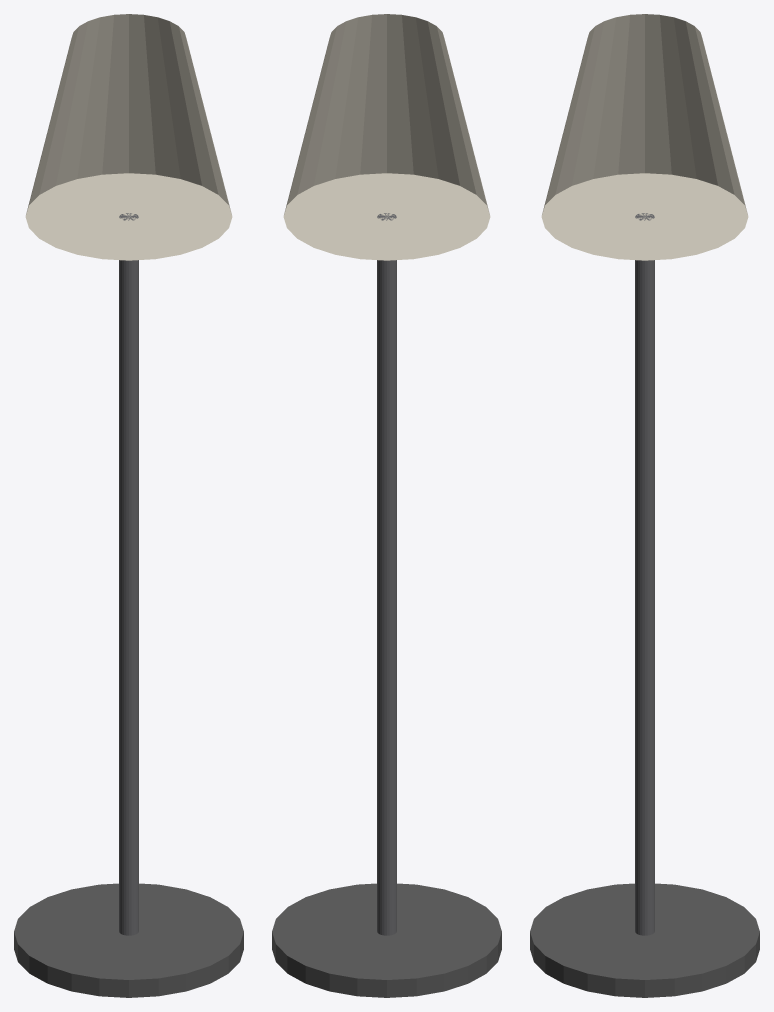
Rendered from cat_lamp_floor-standard.glb.
3 renders of one model, left to right at view 1: azimuth 30°, elevation 25°; view 2: azimuth 150°, elevation 25°; view 3: azimuth 270°, elevation 25°, orthographic.
Visible parts, largest first — view 1: geometry_2, geometry_0, geometry_1; view 2: geometry_2, geometry_0, geometry_1; view 3: geometry_2, geometry_0, geometry_1.
Boxes of the visible parts, x1,y1,x2,y2 form: geometry_2: [25, 14, 232, 260]; geometry_0: [14, 883, 243, 997]; geometry_1: [119, 213, 138, 935]; geometry_2: [283, 14, 490, 260]; geometry_0: [272, 883, 501, 997]; geometry_1: [377, 213, 396, 935]; geometry_2: [541, 14, 748, 260]; geometry_0: [530, 883, 759, 997]; geometry_1: [635, 213, 654, 935].
Size of the model in its own units: 0.35 by 1.53 by 0.35.
